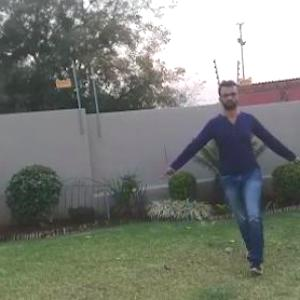land: (177, 86, 298, 252)
